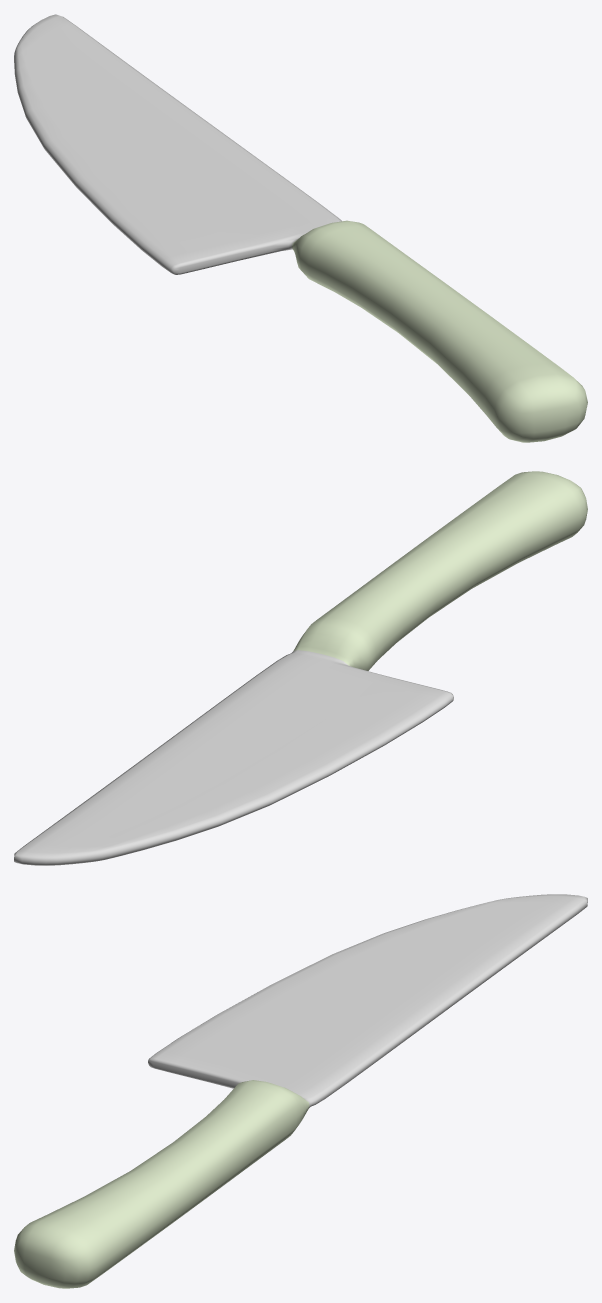
The model's file is knife.fbx.
The picture shows the model from 3 angles, top to bottom: view 1: azimuth 30°, elevation 25°; view 2: azimuth 150°, elevation 25°; view 3: azimuth 330°, elevation 25°; orthographic projection. The views are drawn at different scales.
Visible parts, largest first — view 1: knife; view 2: knife; view 3: knife.
Boxes of the visible parts, x1,y1,x2,y2 form: knife: (14, 14, 587, 442); knife: (14, 471, 587, 865); knife: (14, 894, 587, 1288).
Size of the model in its own units: 59.25 by 19.3 by 303.
